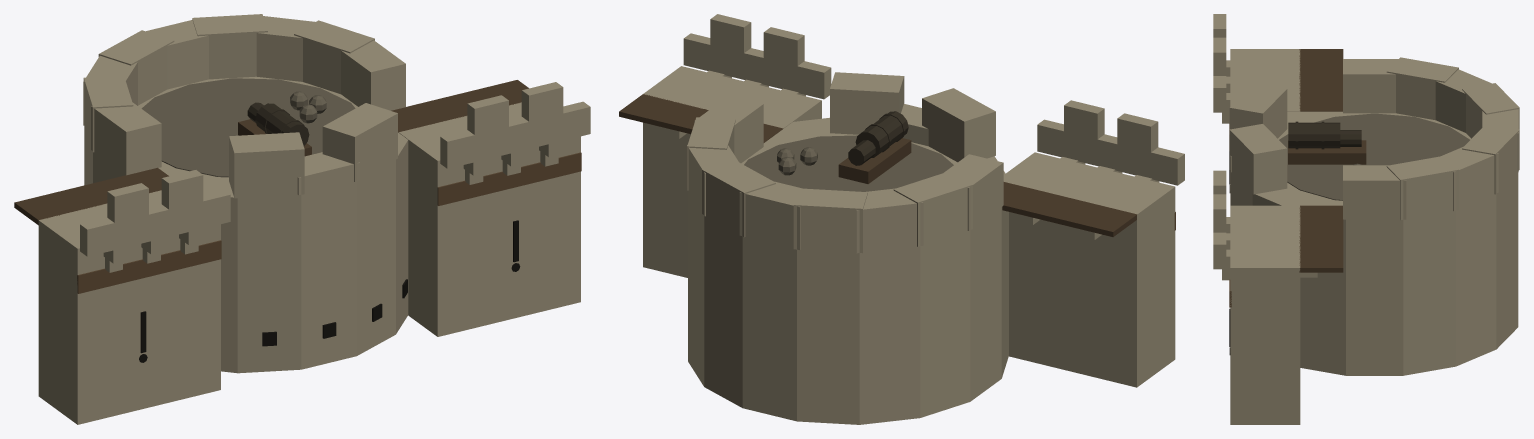
File: LateBastion.fbx
The picture shows the model from 3 angles, left to right: view 1: azimuth 30°, elevation 25°; view 2: azimuth 150°, elevation 25°; view 3: azimuth 270°, elevation 25°; orthographic projection. The views are drawn at different scales.
Parts seen in each view (by area): view 1: LateBastion; view 2: LateBastion; view 3: LateBastion.
Part boxes in pixels (<box>): LateBastion: <box>14,14,590,424</box>; LateBastion: <box>619,14,1184,424</box>; LateBastion: <box>1213,14,1519,424</box>.
Size of the model in its own units: 1202 by 522 by 711.
Materials: 6 (6 with a texture image).
